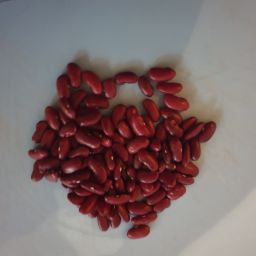Pinto Beans (kidney beans): (13, 50, 245, 251), (89, 166, 157, 239), (124, 63, 194, 127), (77, 136, 135, 200), (36, 64, 103, 117), (155, 139, 208, 202), (158, 106, 213, 150), (14, 138, 61, 186), (108, 80, 140, 139)
